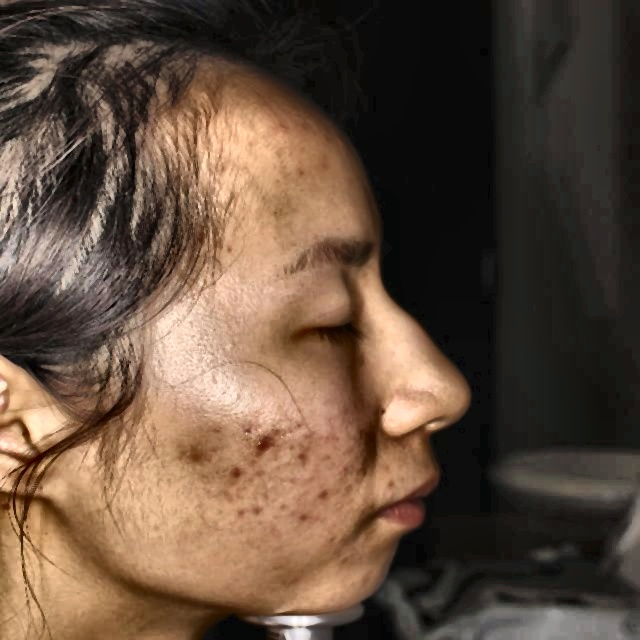pustule: (289, 444, 315, 471), (270, 114, 293, 136), (229, 462, 245, 487), (250, 434, 265, 459), (186, 449, 202, 471), (314, 486, 334, 502)
